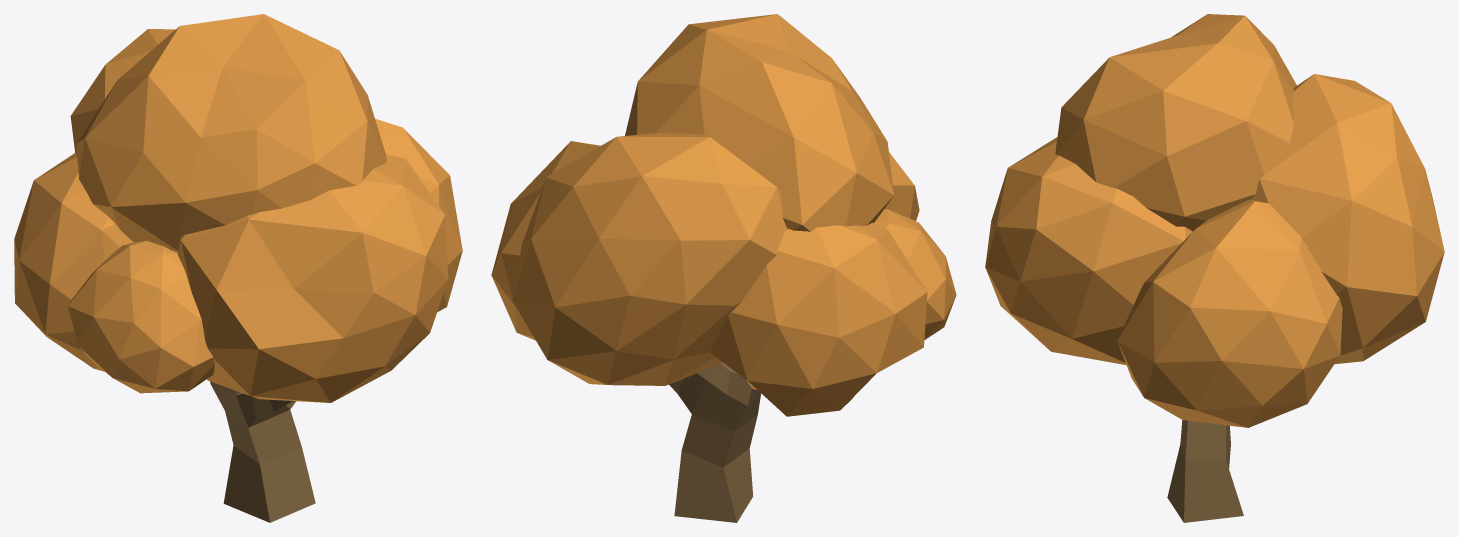
File: forest-oak-c-fall.glb
The picture shows the model from 3 angles, left to right: view 1: azimuth 30°, elevation 25°; view 2: azimuth 150°, elevation 25°; view 3: azimuth 270°, elevation 25°; orthographic projection. The views are drawn at different scales.
Visible parts, largest first — view 1: OakTree3; view 2: OakTree3; view 3: OakTree3.
Part boxes in pixels (x1,y1,x2,y2): OakTree3: (14,14,462,522); OakTree3: (491,14,956,522); OakTree3: (985,14,1444,522).
Size of the model in its own units: 13.82 by 15.84 by 14.23.
